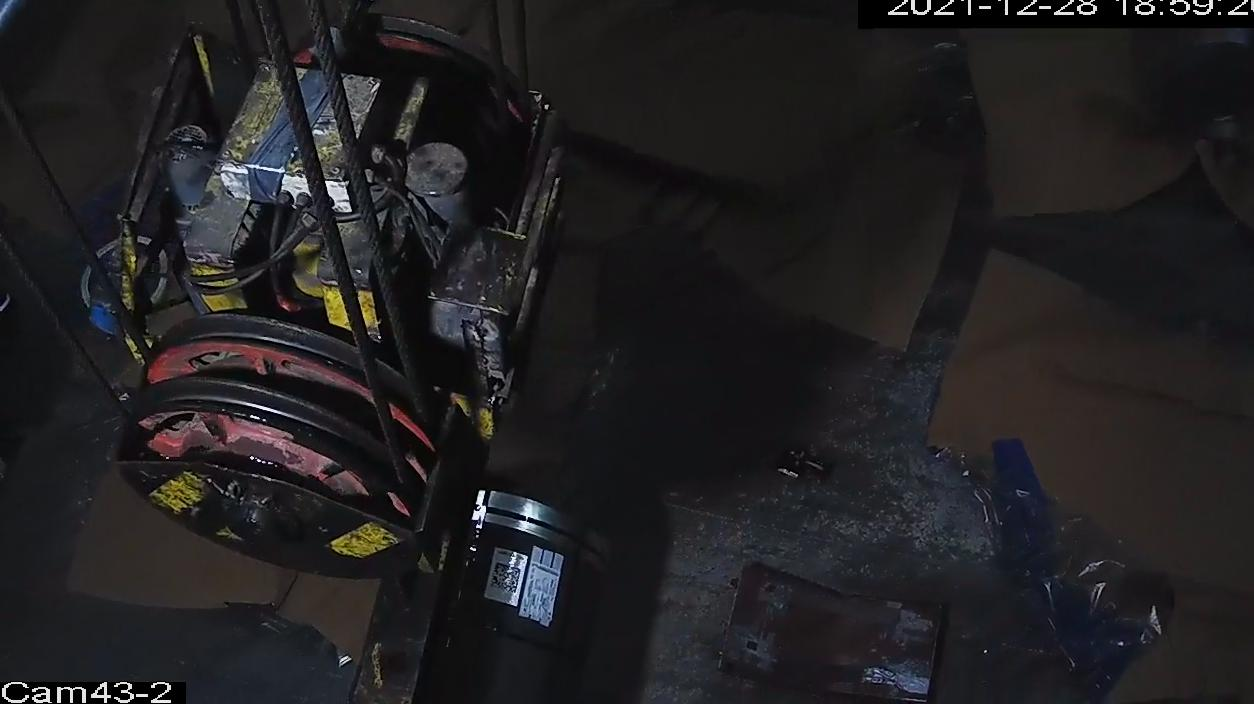data matrix: (490, 561, 524, 597)
